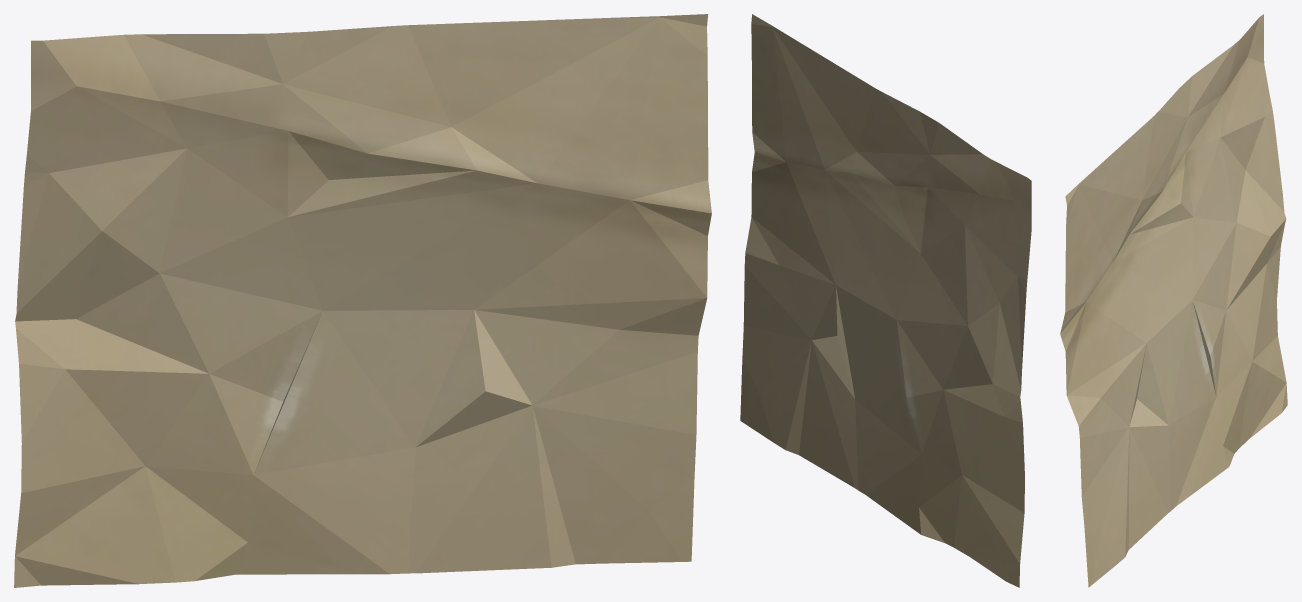
3 renders of one model, left to right at view 1: azimuth 30°, elevation 25°; view 2: azimuth 150°, elevation 25°; view 3: azimuth 270°, elevation 25°, orthographic. The views are drawn at different scales.
Size of the model in its own units: 0.8373 by 0.8374 by 0.4413.
3 materials, 3 textured.
